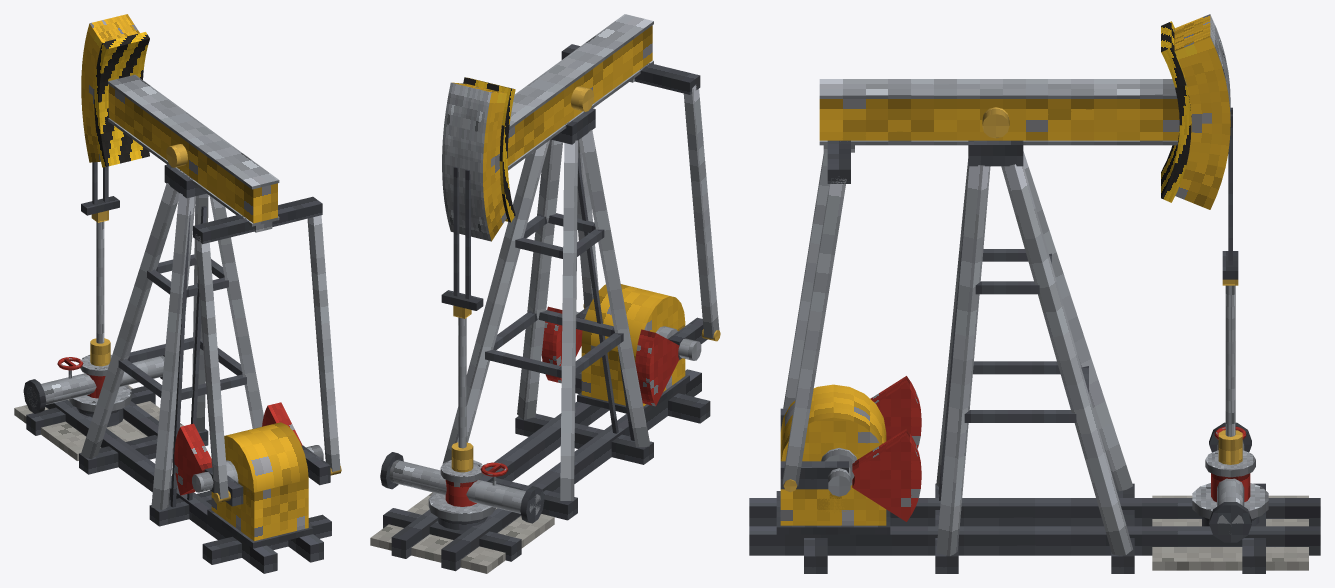
Rendered from pumpjack.obj.
3 renders of one model, left to right at view 1: azimuth 30°, elevation 25°; view 2: azimuth 150°, elevation 25°; view 3: azimuth 270°, elevation 25°, orthographic. The views are drawn at different scales.
Size of the model in its own units: 0.3425 by 0.9891 by 1.
